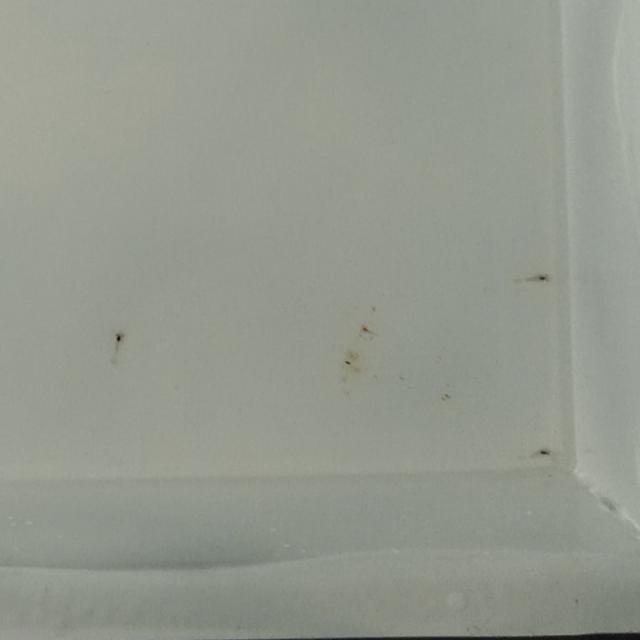shrimp-seed: (528, 267, 556, 291), (108, 331, 132, 356), (532, 445, 558, 463)
